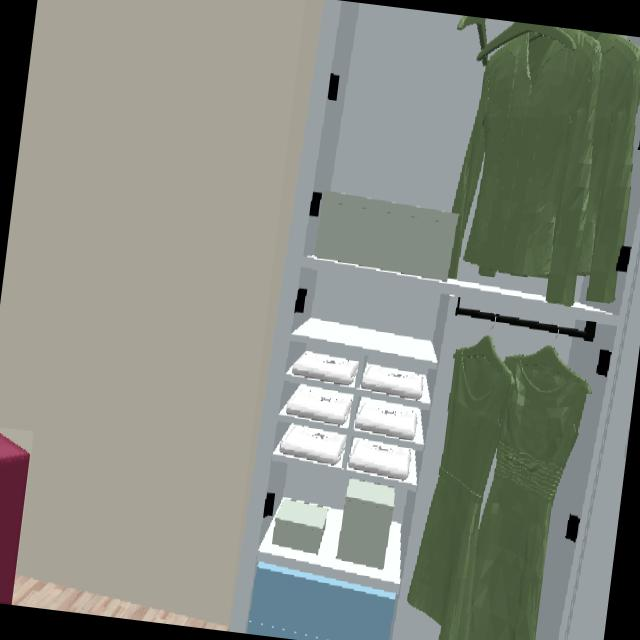sofa: (0, 435, 30, 603)
wardrobe: (227, 0, 640, 640)
